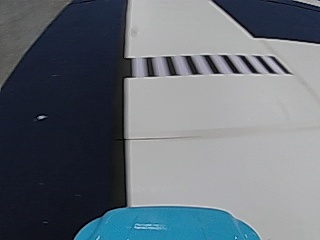CrossWalk: (123, 53, 285, 78)
